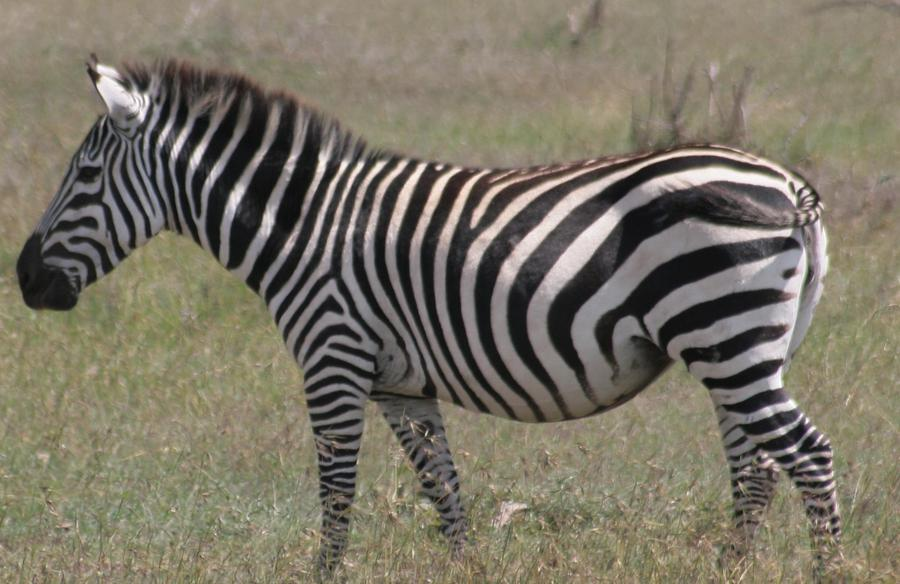zebra_plains: (250, 120, 781, 408)
